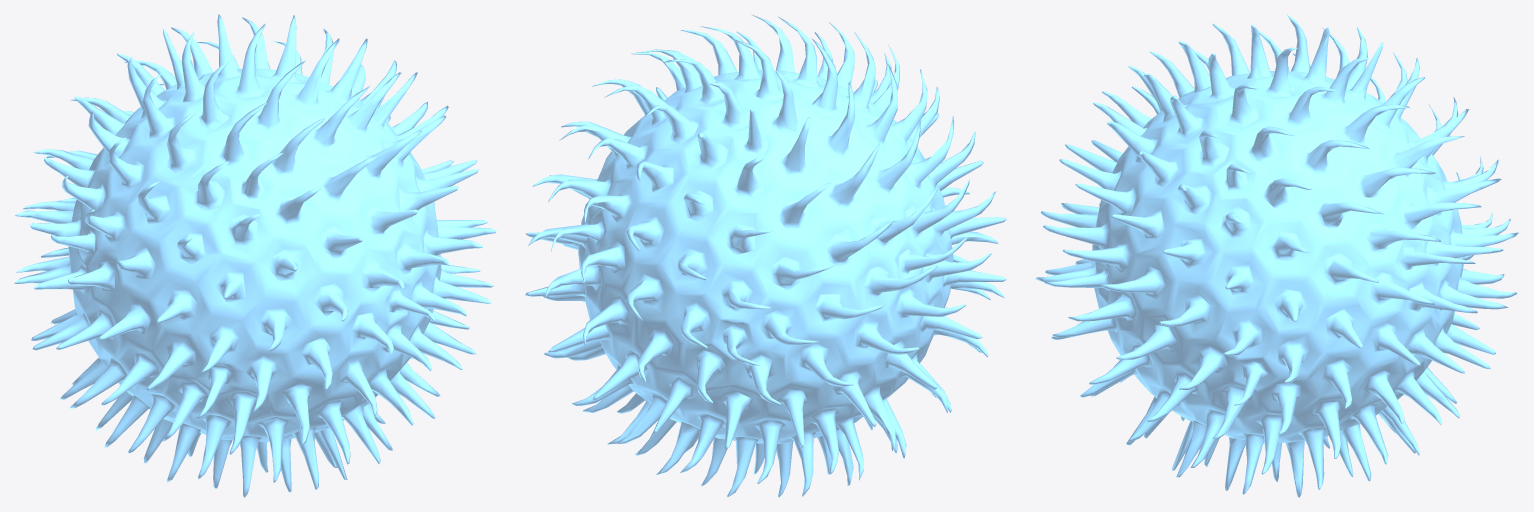
File: emily.glb
3 renders of one model, left to right at view 1: azimuth 30°, elevation 25°; view 2: azimuth 150°, elevation 25°; view 3: azimuth 270°, elevation 25°, orthographic.
Visible parts, largest first — view 1: Virus.015; view 2: Virus.015; view 3: Virus.015.
Part boxes in pixels (bbox=[...]): Virus.015: bbox=[14, 14, 496, 497]; Virus.015: bbox=[525, 14, 1006, 497]; Virus.015: bbox=[1035, 14, 1518, 497].
Size of the model in its own units: 2.55 by 2.54 by 2.55.
